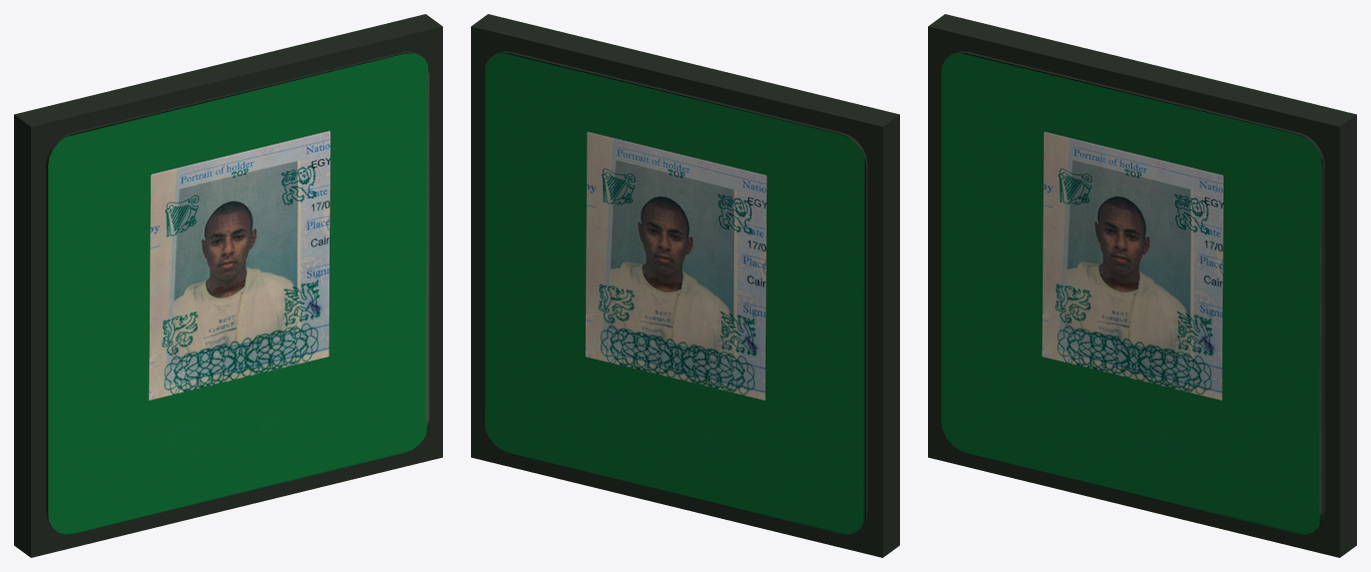
Rendered from album1.gltf.
3 views of the same model, side by side, from view 1: azimuth 30°, elevation 25°; view 2: azimuth 150°, elevation 25°; view 3: azimuth 330°, elevation 25° (orthographic).
Parts seen in each view (by area): view 1: cube; view 2: cube; view 3: cube.
Part boxes in pixels (bbox=[...]): cube: bbox=[14, 14, 442, 557]; cube: bbox=[471, 14, 899, 557]; cube: bbox=[928, 14, 1356, 557].
Bounding box in the file's own units: 2 × 2 × 0.1757.
Materials: 2 (1 with a texture image).
